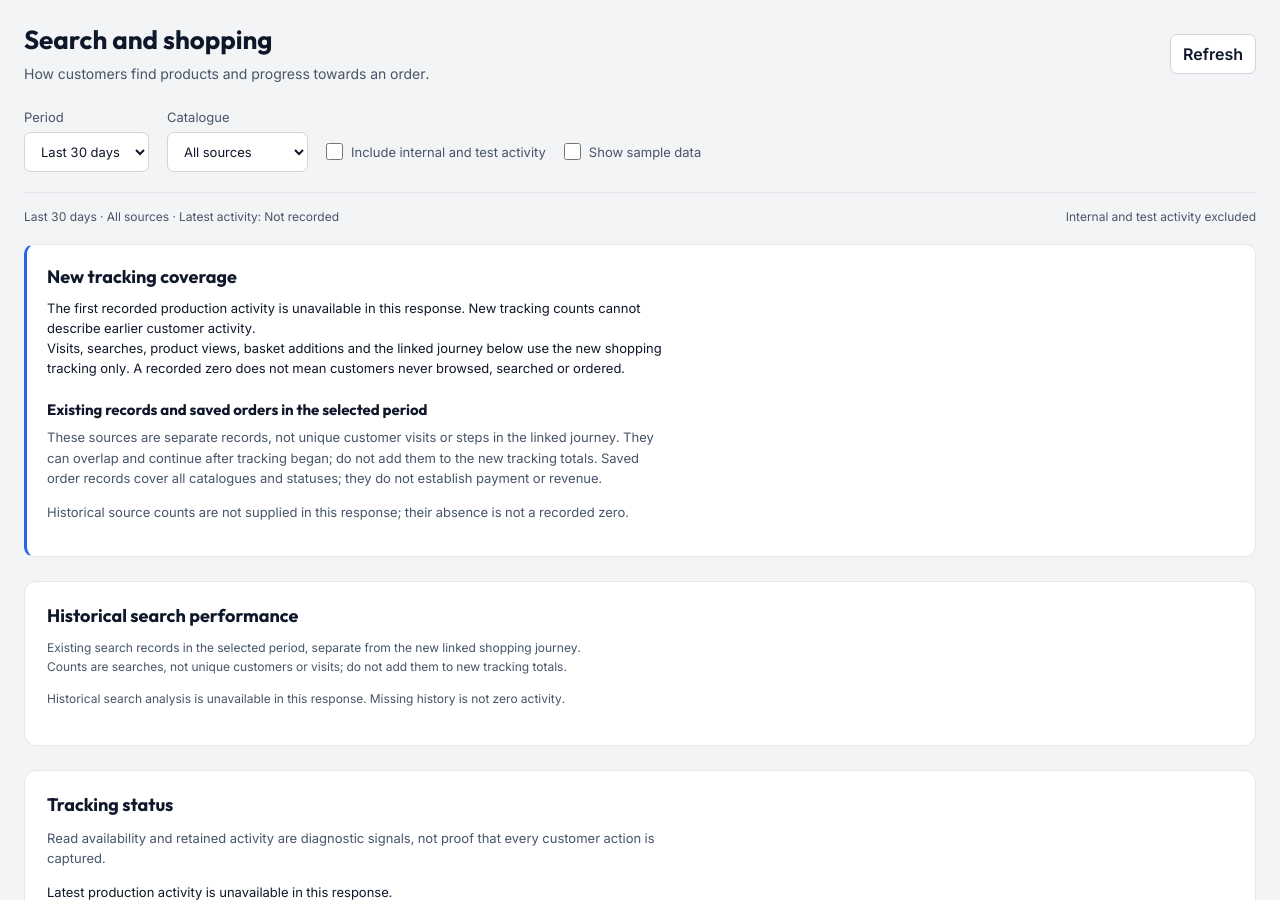
Test case: shopping analytics UI › labels sample data only after an explicit choice
This screenshot has width=1280, height=900.
What coordinates should you click on to do the following:
click the checkbox labelled "Show sample data"
I would click on:
 (572, 152)
Its box is [564,143,581,160].
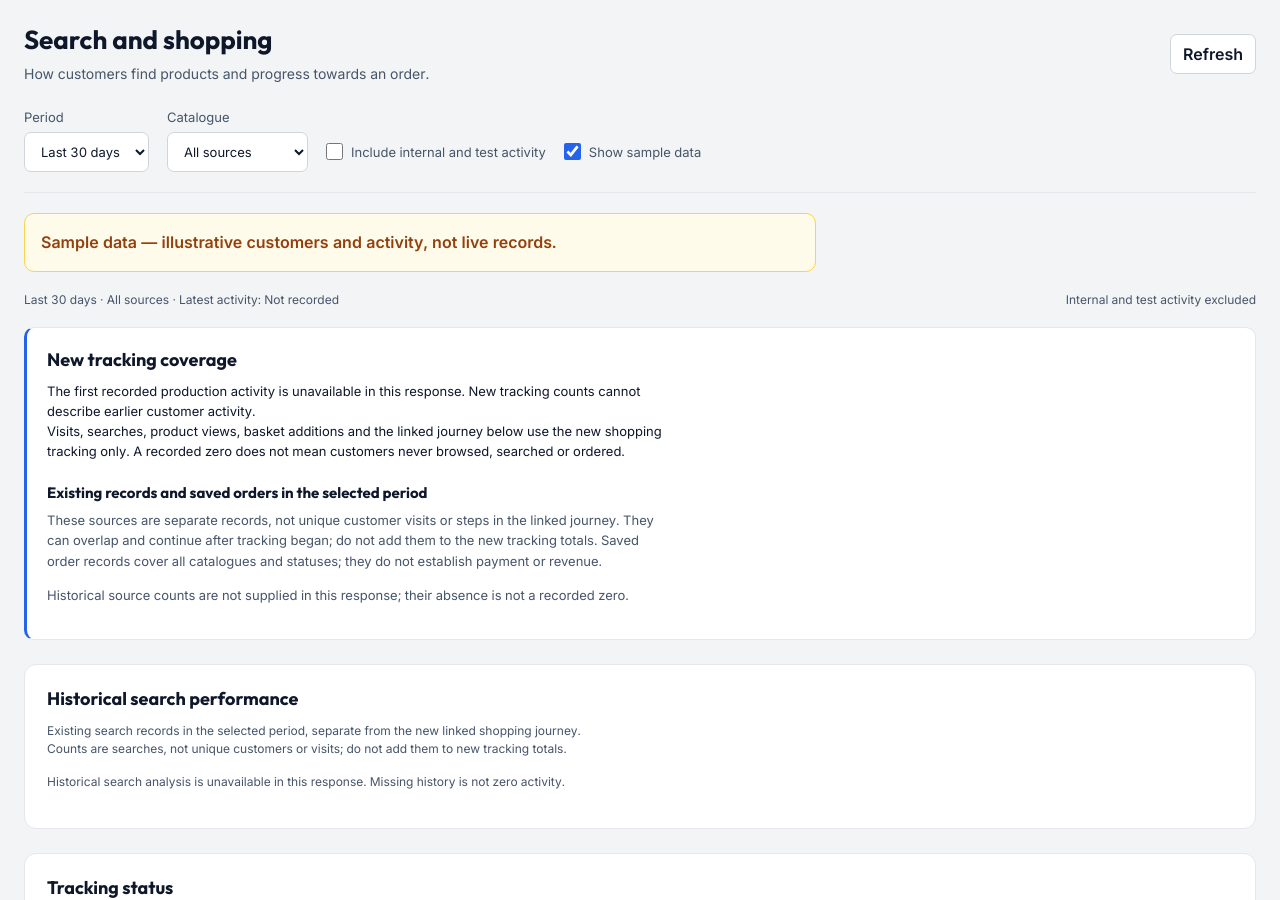
expect the text "Sample data — illustrative customers and activity, not live records." is shown: met, box [24,213,816,272]
